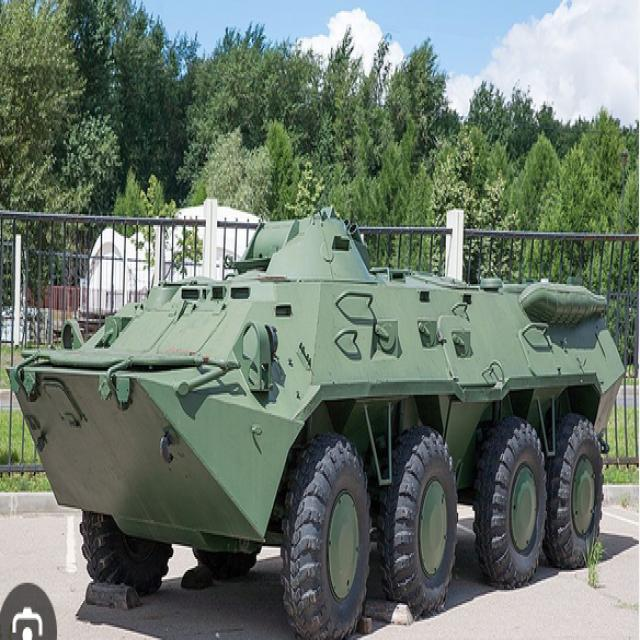MIL_APC: (7, 190, 622, 632)
